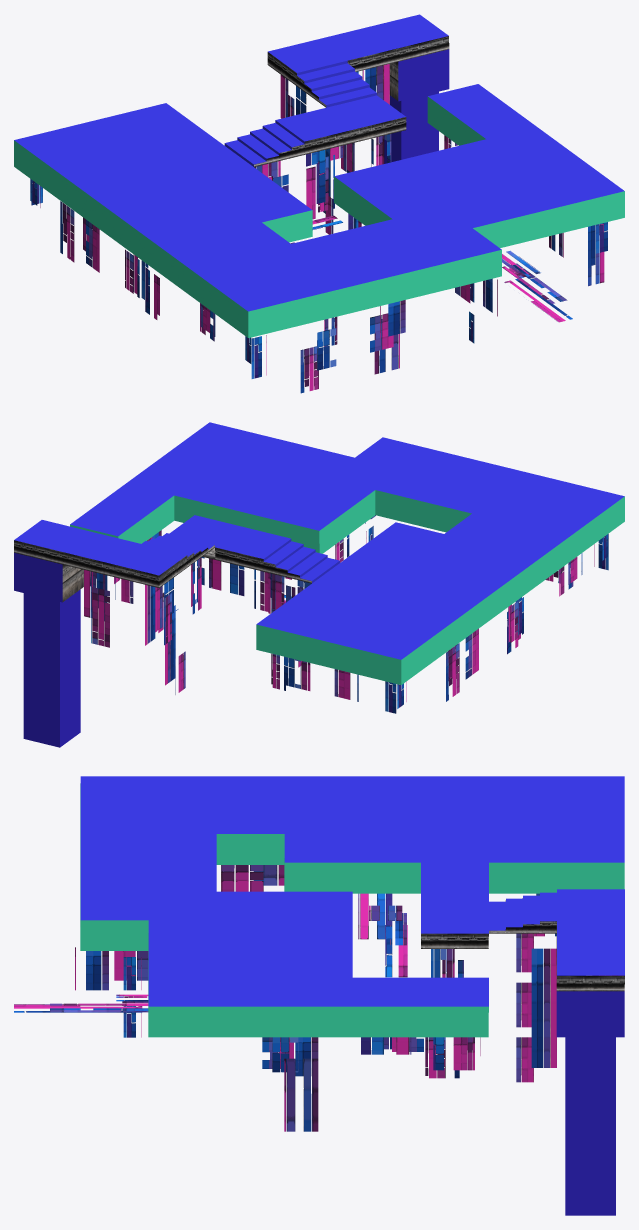
The model's file is Tile_Intro.FBX.
3 renders of one model, top to bottom at view 1: azimuth 30°, elevation 25°; view 2: azimuth 150°, elevation 25°; view 3: azimuth 270°, elevation 25°, orthographic. The views are drawn at different scales.
Parts seen in each view (by area): view 1: Top, Base, Highlights; view 2: Top, Base, Highlights; view 3: Top, Base, Highlights.
Boxes of the visible parts, x1,y1,x2,y2 form: Top: (14,14,624,311); Base: (14,36,624,337); Highlights: (30,64,607,393); Top: (14,422,624,659); Base: (14,490,624,747); Highlights: (84,515,608,713); Top: (80,776,624,1006); Base: (80,783,624,1215); Highlights: (14,865,556,1131).
Size of the model in its own units: 632 by 311 by 707.
